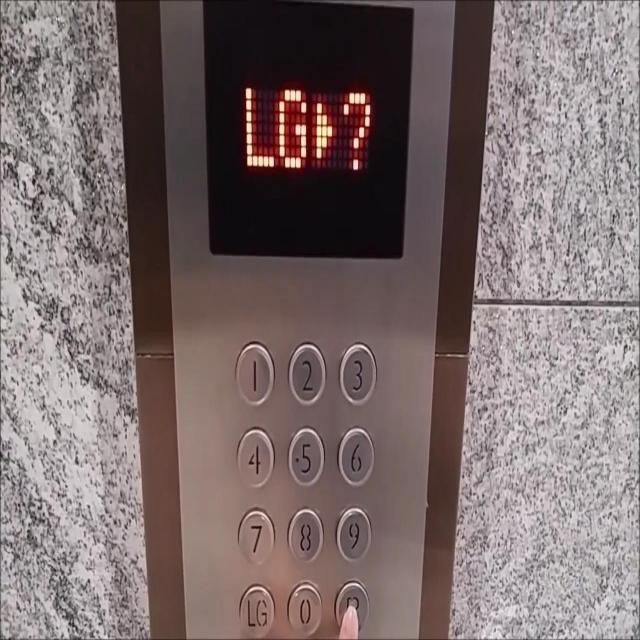0: (284, 578, 324, 639)
1: (234, 337, 274, 405)
2: (287, 340, 327, 406)
3: (336, 338, 376, 404)
4: (236, 424, 274, 489)
5: (287, 422, 327, 486)
6: (335, 422, 376, 489)
7: (237, 504, 276, 563)
8: (287, 503, 325, 564)
9: (336, 505, 372, 564)
LG: (237, 581, 275, 639)
led: (198, 2, 418, 265)
